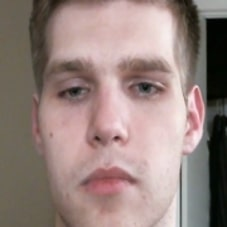drowsy: (44, 51, 178, 203)
